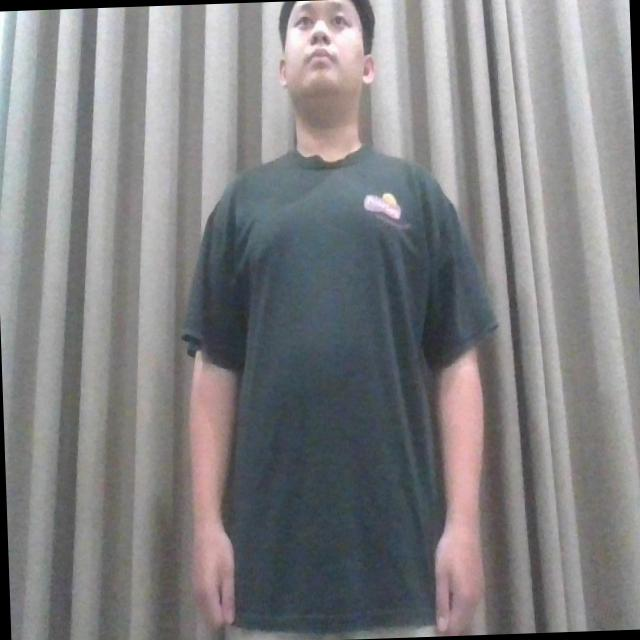T_shirt: (185, 147, 497, 630)
